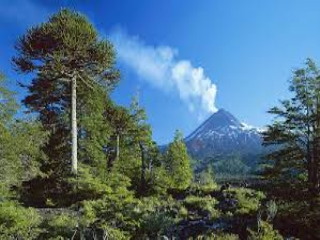smoke: (150, 43, 223, 123)
